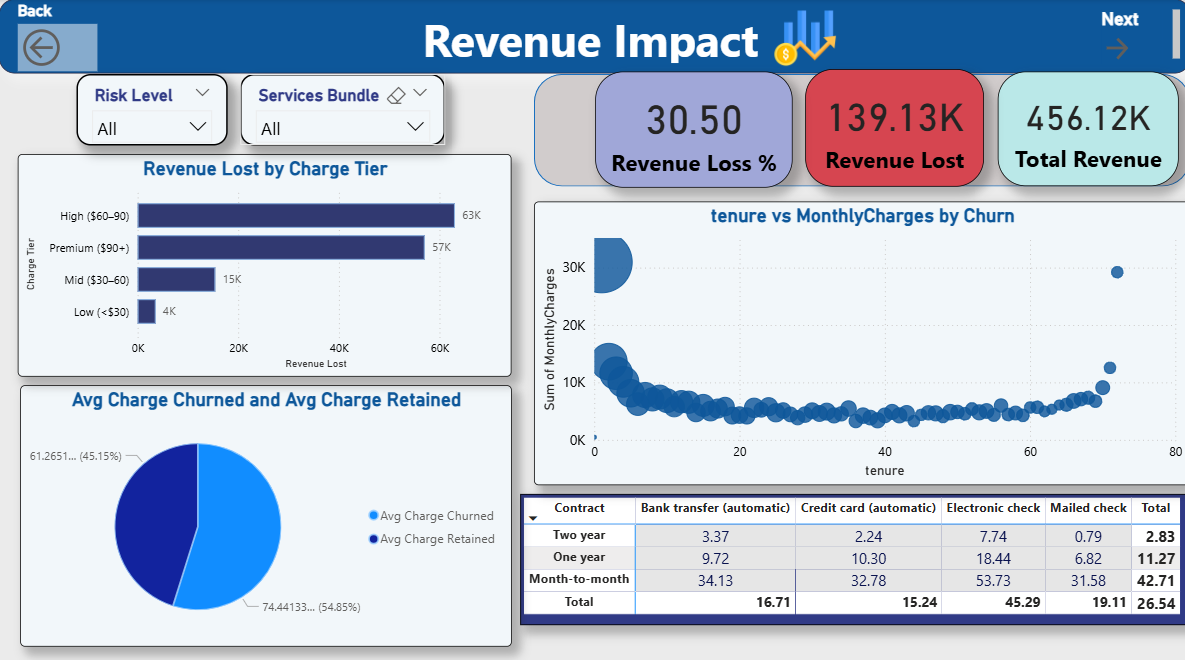

The page's visual inventory and layout, read from the dashboard file:
{"tool":"powerbi","page":{"name":"Revenue Impact","canvas":[1280,720],"ordinal":1},"visuals":[{"type":"textbox","box":[0,0,1280,80.3],"z":0},{"type":"pivotTable","fields":{"Rows":["Telco_Customer_Churn.Contract"],"Columns":["Telco_Customer_Churn.PaymentMethod"],"Values":["Telco_Customer_Churn.Churn Rate %"]},"box":[560,531.8,719.8,141],"z":1000},{"type":"pieChart","fields":{"Y":["Telco_Customer_Churn.Avg Charge Churned","Telco_Customer_Churn.Avg Charge Retained"]},"box":[22.8,414.9,527.7,280.7],"z":2000},{"type":"barChart","fields":{"Category":["Telco_Customer_Churn.Charge Tier"],"Y":["Telco_Customer_Churn.Revenue Lost"]},"box":[20.1,166.5,530.4,239],"z":3000},{"type":"slicer","fields":{"Values":["Telco_Customer_Churn.Risk Level"]},"box":[83.3,80.6,162.5,76.5],"z":4000},{"type":"shape","box":[574.7,80.6,705,120.9],"z":5000},{"type":"card","fields":{"Values":["Telco_Customer_Churn.Total Monthly Revenue"]},"box":[1072.9,77.9,194.7,123.5],"z":6000},{"type":"card","fields":{"Values":["Telco_Customer_Churn.Revenue Lost"]},"box":[866.1,75.2,192,126.2],"z":7000},{"type":"card","fields":{"Values":["Telco_Customer_Churn.Revenue Loss %"]},"box":[640.5,77.9,212.2,124.9],"z":8000},{"type":"scatterChart","title":"tenure vs MonthlyCharges by Churn  ","fields":{"Y":["Sum(Telco_Customer_Churn.MonthlyCharges)"],"X":["Telco_Customer_Churn.tenure"],"Size":["Sum(Telco_Customer_Churn.Churn Flag)"]},"box":[574.7,217.5,705,304.8],"z":9000},{"type":"image","box":[801.9,3.9,129.6,76.4],"z":10000},{"type":"slicer","fields":{"Values":["Telco_Customer_Churn.Services Bundle"]},"box":[259.2,80.6,220.2,76.5],"z":11000},{"type":"actionButton","title":"Back","box":[20.1,2.7,85.9,75.2],"z":12000},{"type":"actionButton","title":"Next","box":[1184.4,10.7,65.8,59.1],"z":13000}]}

Visuals, with their boxes in screenshot pixels (x1, y1, x2, y2), scaled from the page's 1280x720 canvas onto the 1185x660 screenshot:
textbox: Rect(0, 0, 1184, 74)
pivotTable - Telco_Customer_Churn.Contract x Telco_Customer_Churn.PaymentMethod: Rect(518, 487, 1184, 617)
pieChart - Telco_Customer_Churn.Avg Charge Churned x Telco_Customer_Churn.Avg Charge Retained: Rect(21, 380, 510, 638)
barChart - Telco_Customer_Churn.Charge Tier x Telco_Customer_Churn.Revenue Lost: Rect(19, 153, 510, 372)
slicer - Telco_Customer_Churn.Risk Level: Rect(77, 74, 228, 144)
shape: Rect(532, 74, 1184, 185)
card - Telco_Customer_Churn.Total Monthly Revenue: Rect(993, 71, 1174, 185)
card - Telco_Customer_Churn.Revenue Lost: Rect(802, 69, 980, 185)
card - Telco_Customer_Churn.Revenue Loss %: Rect(593, 71, 789, 186)
"tenure vs MonthlyCharges by Churn  " scatterChart: Rect(532, 199, 1184, 479)
image: Rect(742, 4, 862, 74)
slicer - Telco_Customer_Churn.Services Bundle: Rect(240, 74, 444, 144)
"Back" actionButton: Rect(19, 2, 98, 71)
"Next" actionButton: Rect(1096, 10, 1157, 64)
